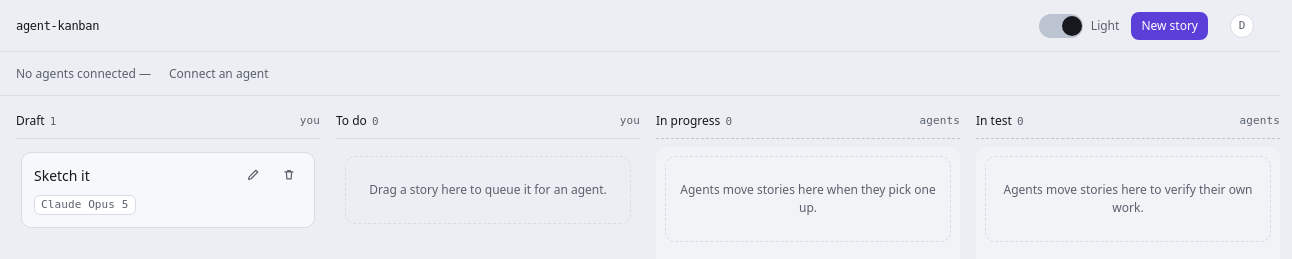
Test: BoardScreen — story dialogs › deletes a draft story from its card
The image size is (1292, 259).
Expected: the button "Sketch it" is shown, left=34, top=165, right=302, bottom=187
Click the button named "Delete Sketch it": (289, 175) left=272, top=161, right=306, bottom=189
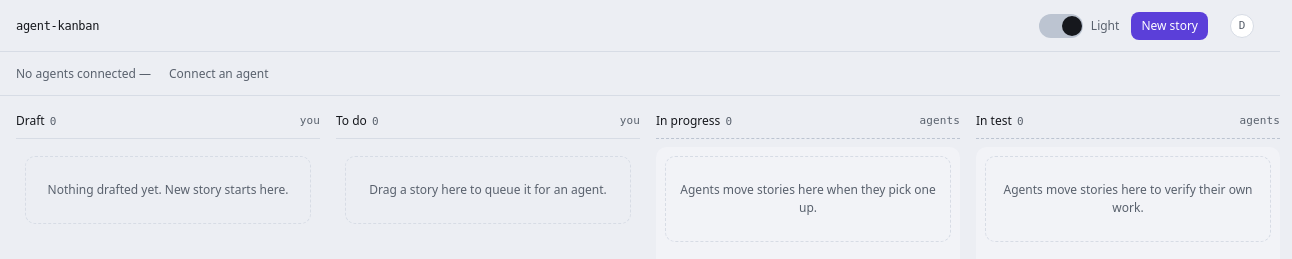
Expected: the button "Sketch it" is gone
